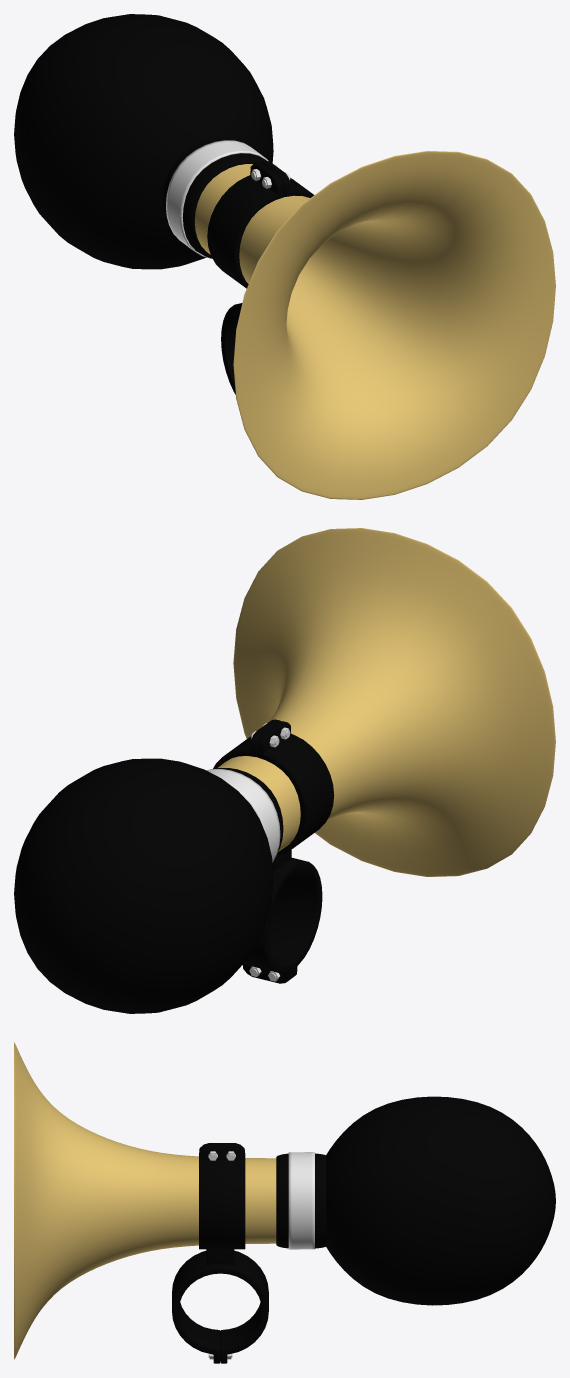
File: horn.glb
3 renders of one model, top to bottom at view 1: azimuth 30°, elevation 25°; view 2: azimuth 150°, elevation 25°; view 3: azimuth 270°, elevation 25°, orthographic. The views are drawn at different scales.
Parts seen in each view (by area): view 1: BikeHorn.001; view 2: BikeHorn.001; view 3: BikeHorn.001.
Boxes of the visible parts, x1,y1,x2,y2 form: BikeHorn.001: [14, 14, 555, 499]; BikeHorn.001: [14, 528, 555, 1013]; BikeHorn.001: [14, 1042, 555, 1363].
Size of the model in its own units: 0.042 by 0.0442 by 0.0729.
